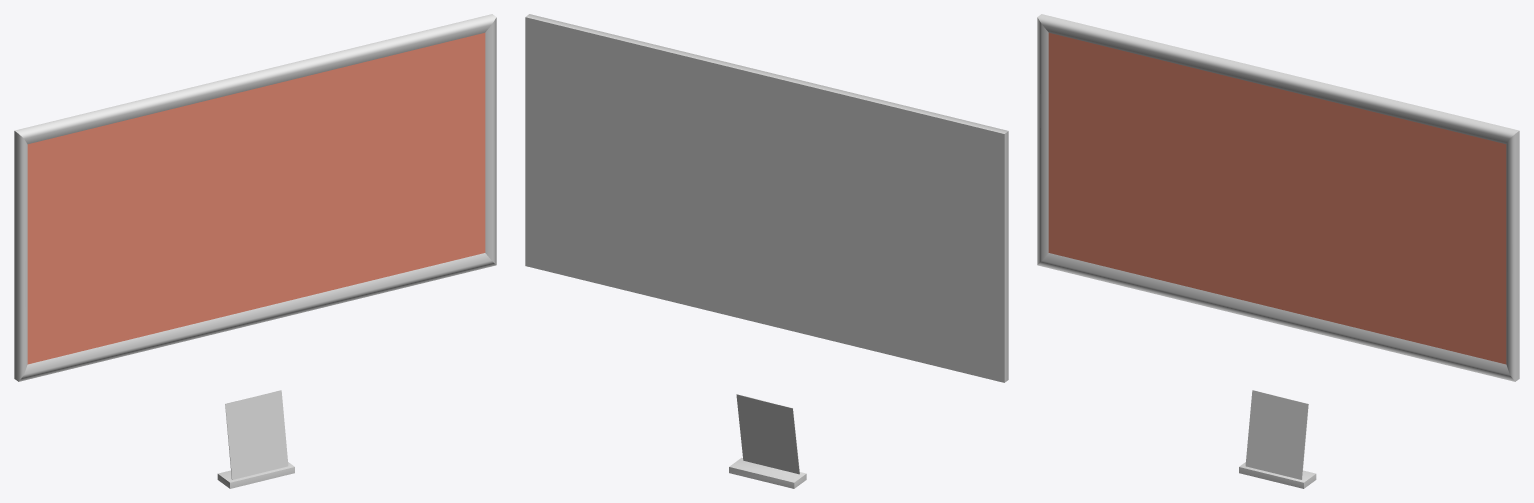
Rendered from BlackBoard.fbx.
The picture shows the model from 3 angles, left to right: view 1: azimuth 30°, elevation 25°; view 2: azimuth 150°, elevation 25°; view 3: azimuth 330°, elevation 25°; orthographic projection.
Visible parts, largest first — view 1: BlackBoard, miniBoard; view 2: BlackBoard, miniBoard; view 3: BlackBoard, miniBoard.
Part boxes in pixels (x1,y1,x2,y2): BlackBoard: [14, 14, 496, 381]; miniBoard: [217, 390, 294, 488]; BlackBoard: [525, 14, 1008, 382]; miniBoard: [729, 394, 806, 488]; BlackBoard: [1037, 14, 1519, 381]; miniBoard: [1239, 390, 1316, 488].
Bounding box in the file's own units: 2.21 × 1.77 × 0.0999.
